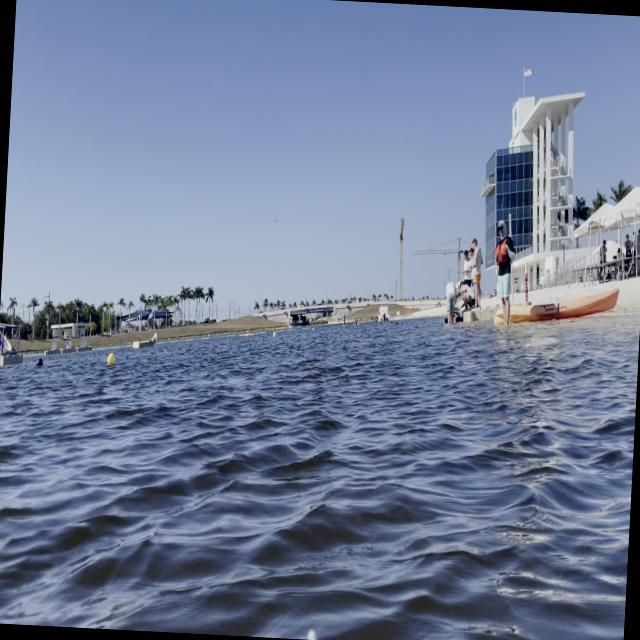buoy: (106, 352, 116, 368), (36, 358, 44, 368)
